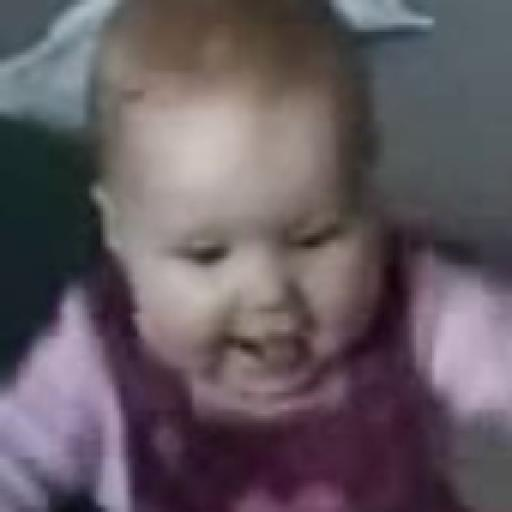Autism: (86, 0, 512, 448)
